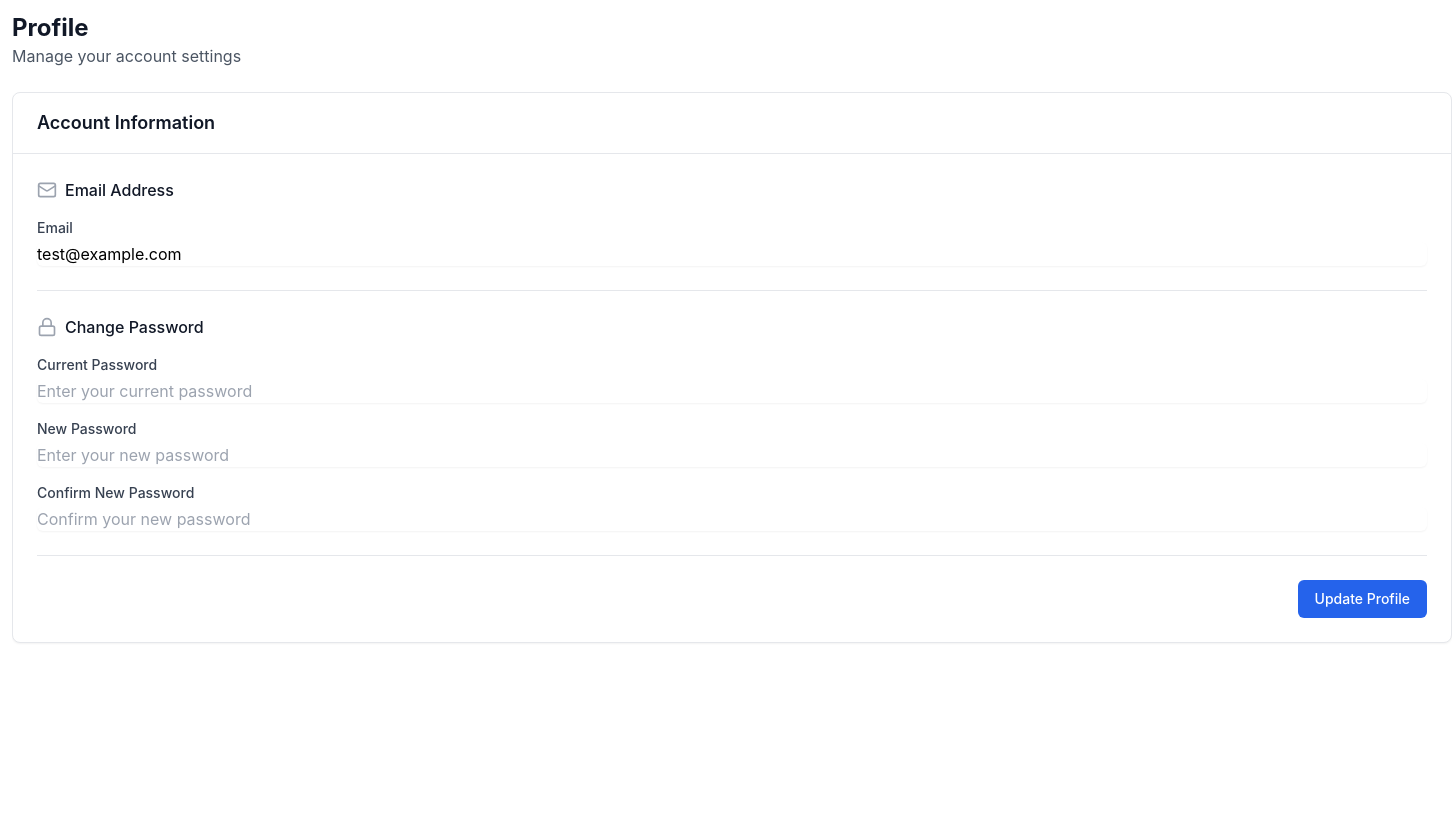
it: Profile Component › validates password length
Type "currentpass" into the password field labelled "Current Password".
click(732, 391); type("currentpass")  # box [37,379,1427,403]
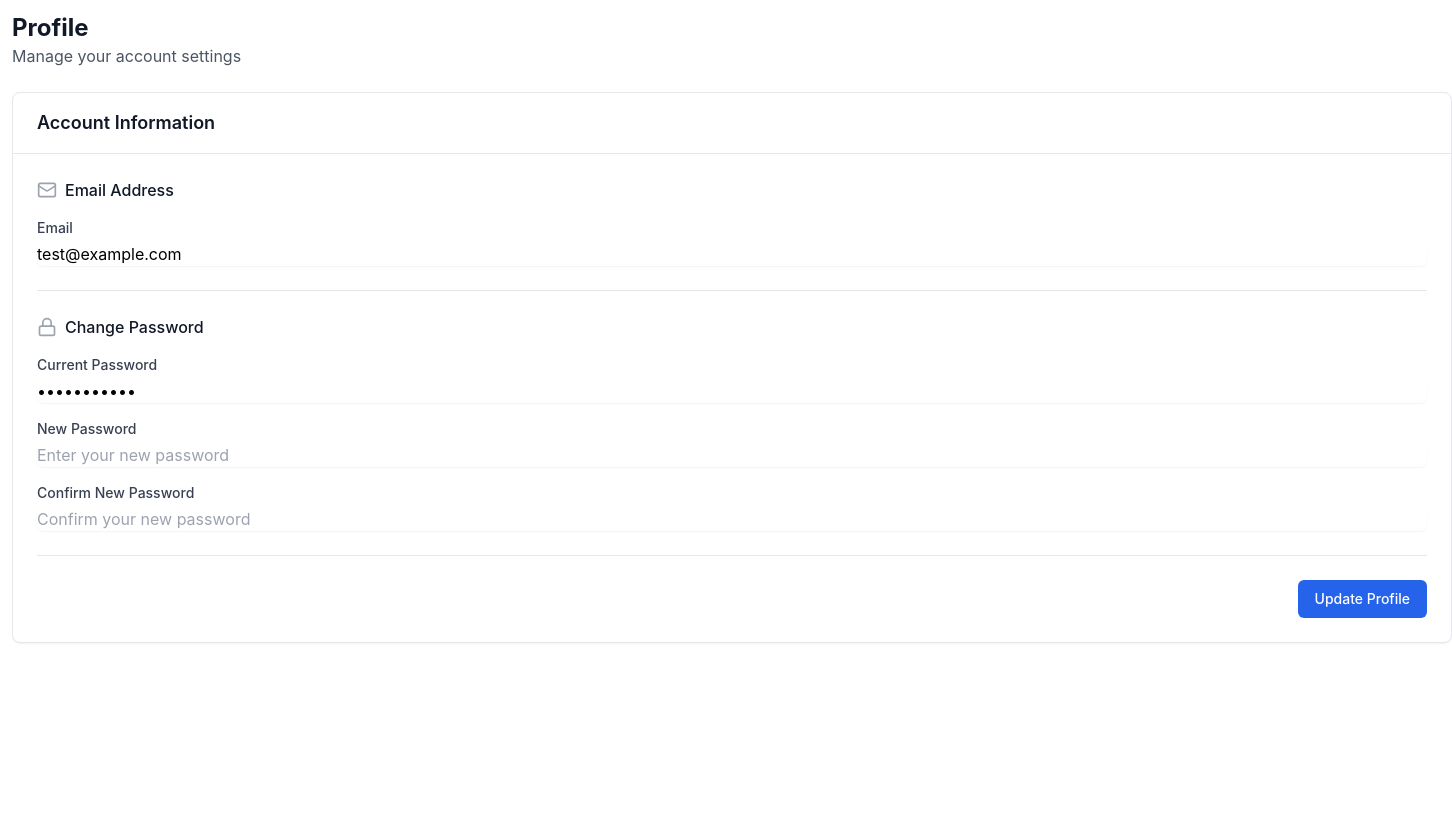
Type "123" into the password field labelled "New Password".
click(732, 455); type("123")  # box [37,443,1427,467]
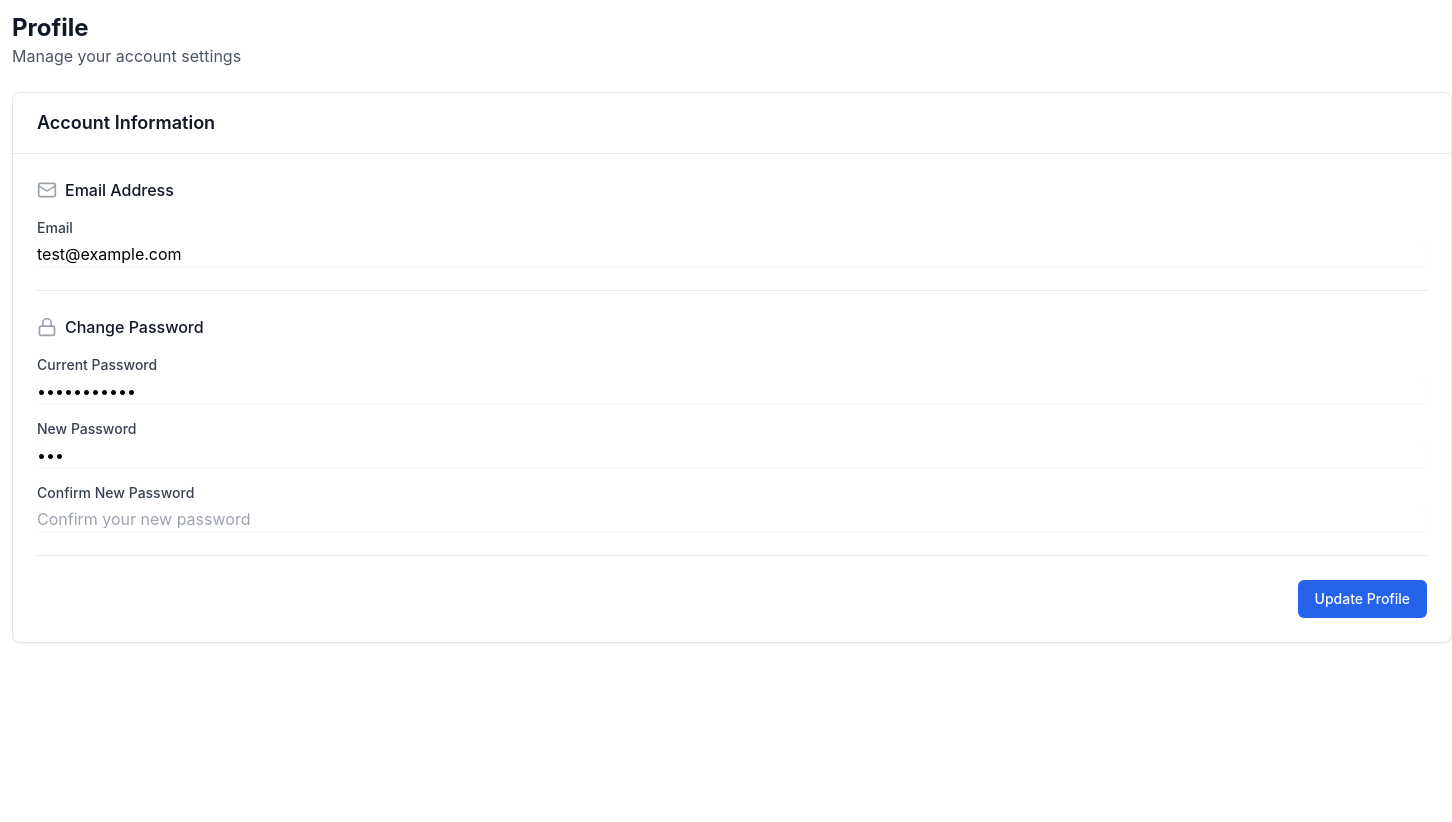
Type "123" into the password field labelled "Confirm New Password".
click(732, 519); type("123")  # box [37,507,1427,531]
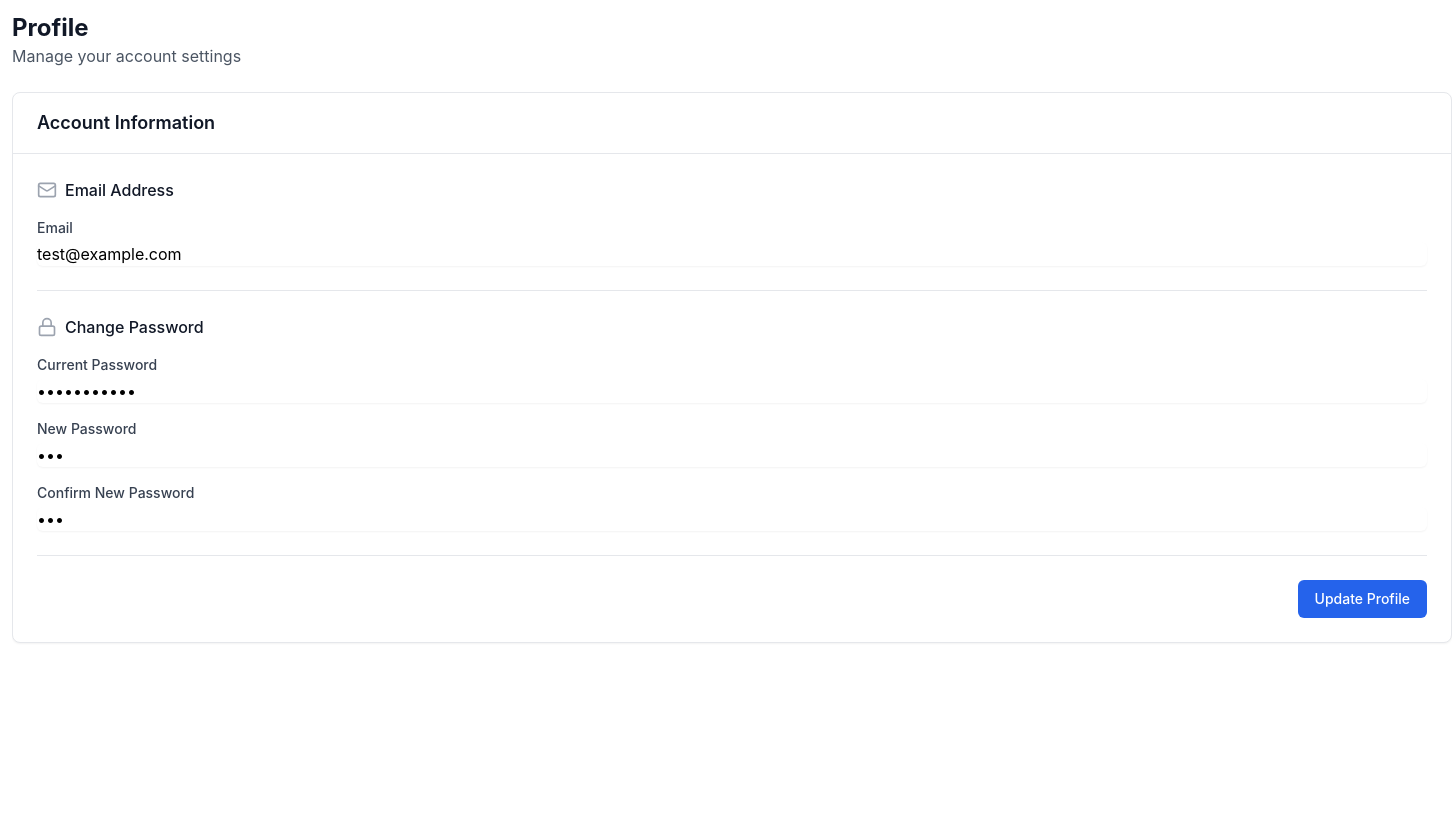
Click the button "Update Profile".
click(1362, 599)  # box [1298,580,1427,618]
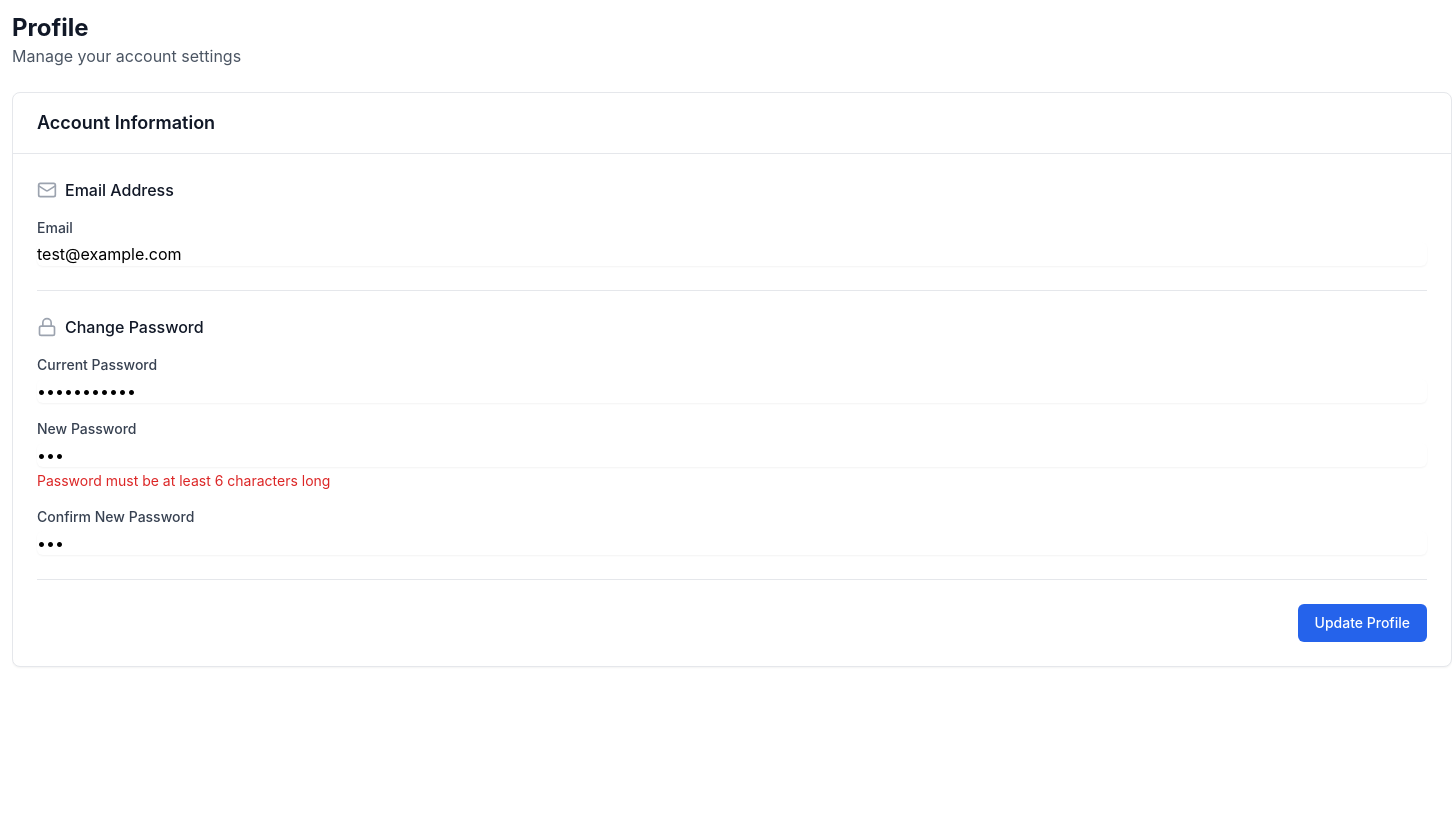
Expected: the text "Password must be at least 6 characters long" is shown, [37,472,330,489]
